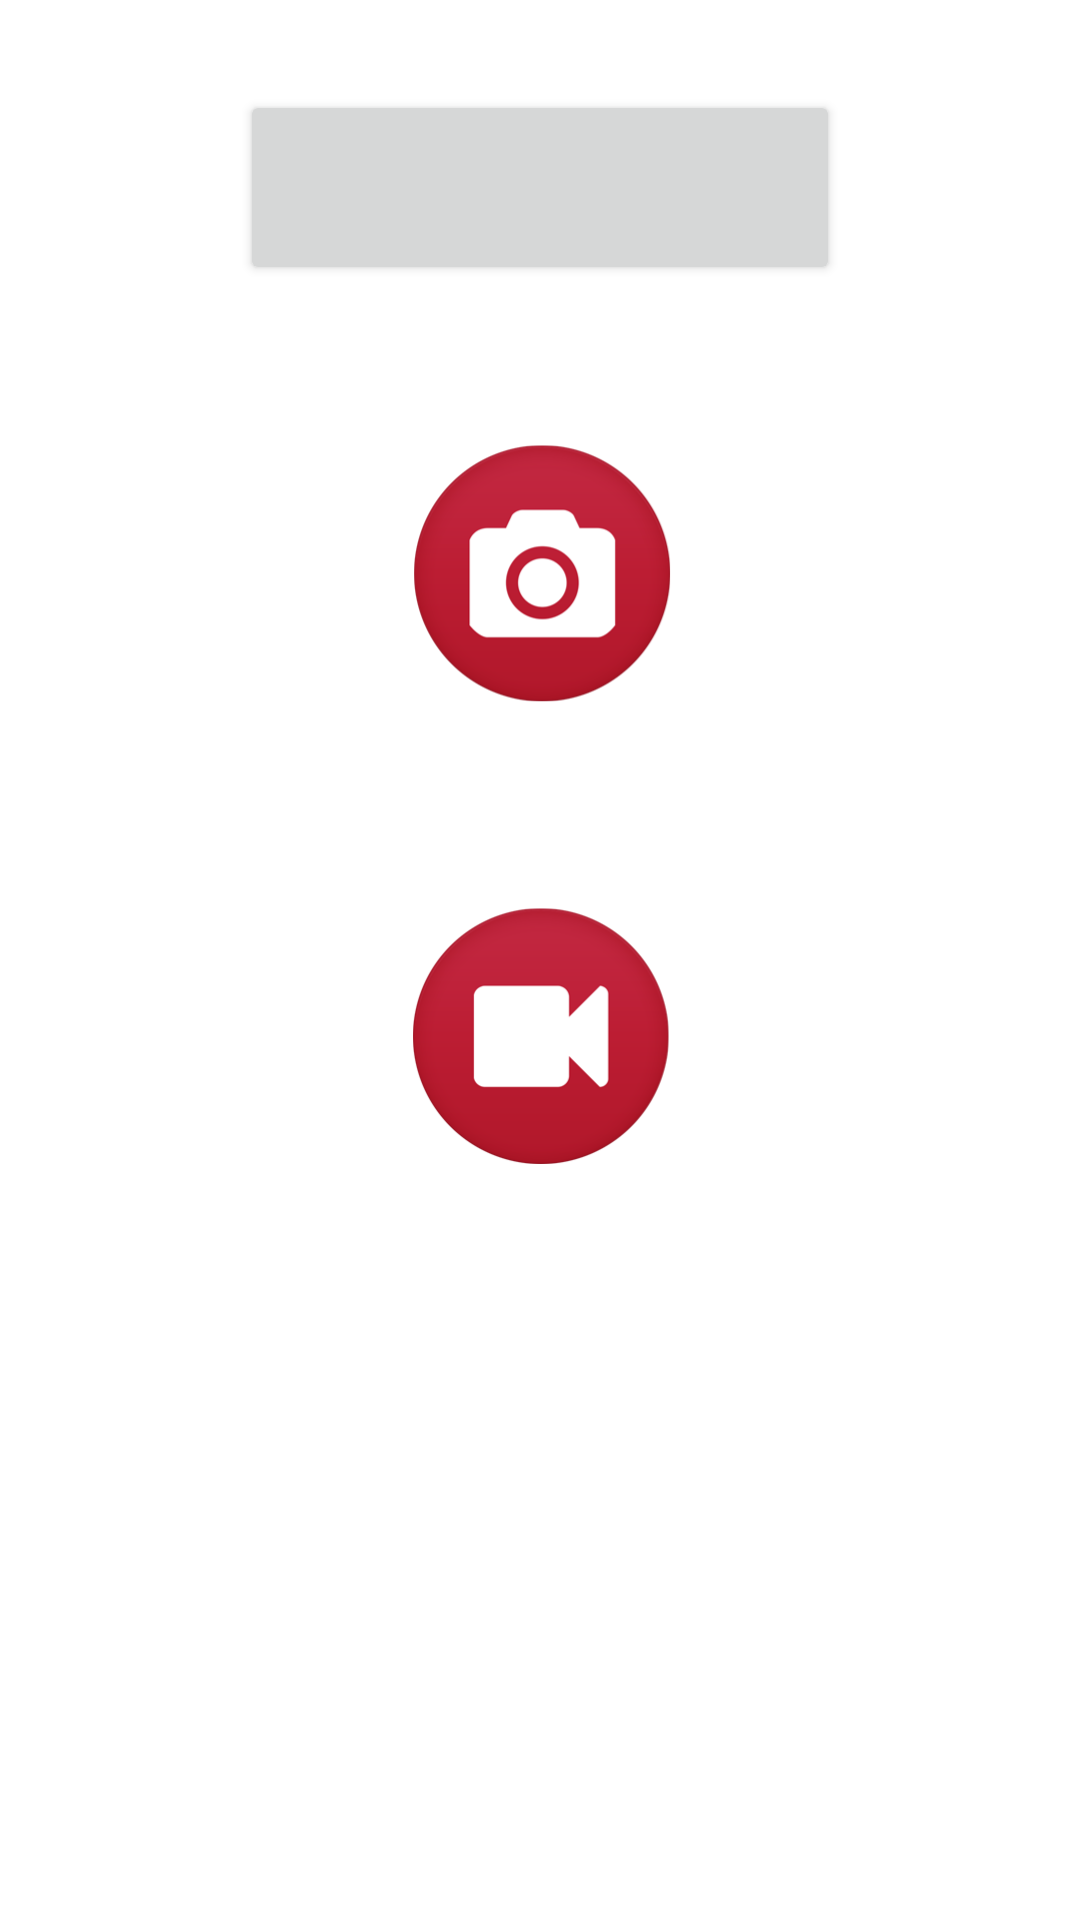

Where icons sit on this 1080px×1920px app screen, as [left=x1, top=y1, right=x2, bottom=y2]:
pic alarm notset: [left=414, top=445, right=670, bottom=702]
video alarm notset: [left=413, top=908, right=669, bottom=1164]
